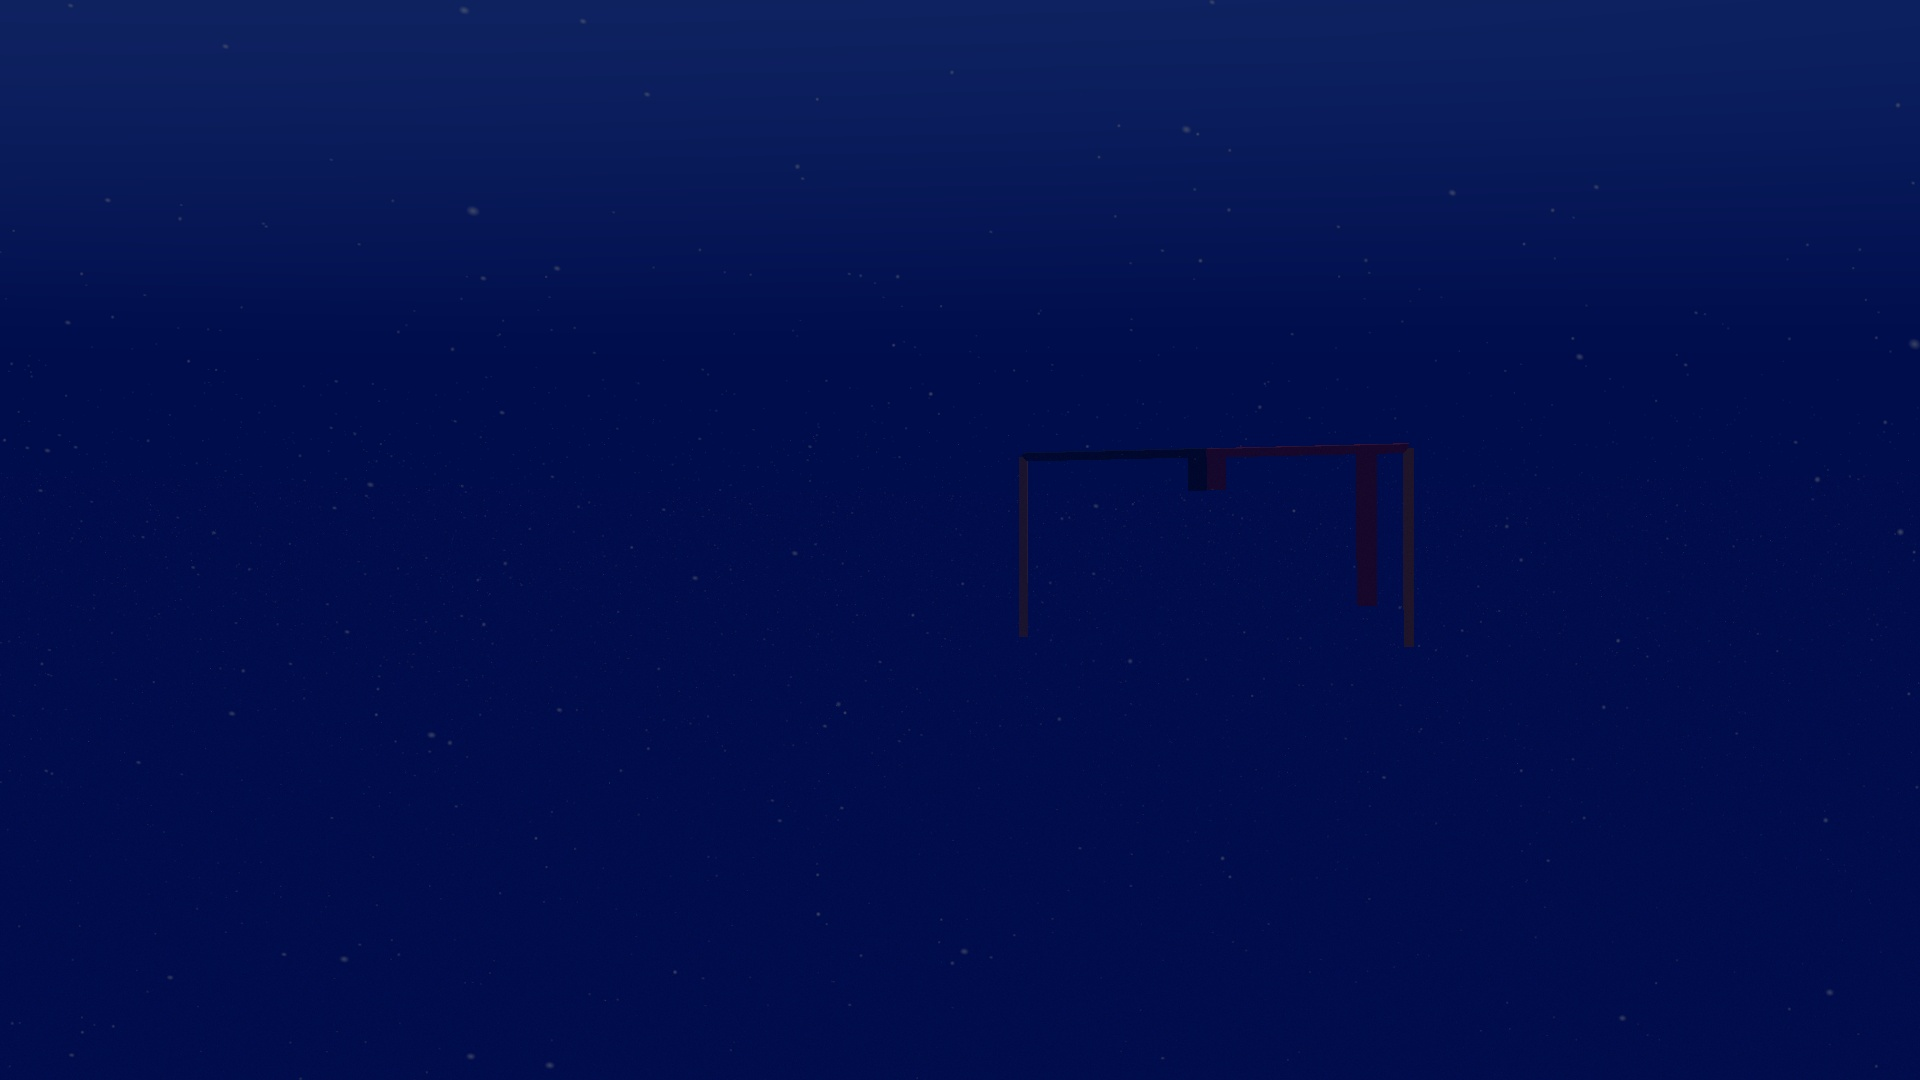Gate: (1010, 433, 1425, 661)
